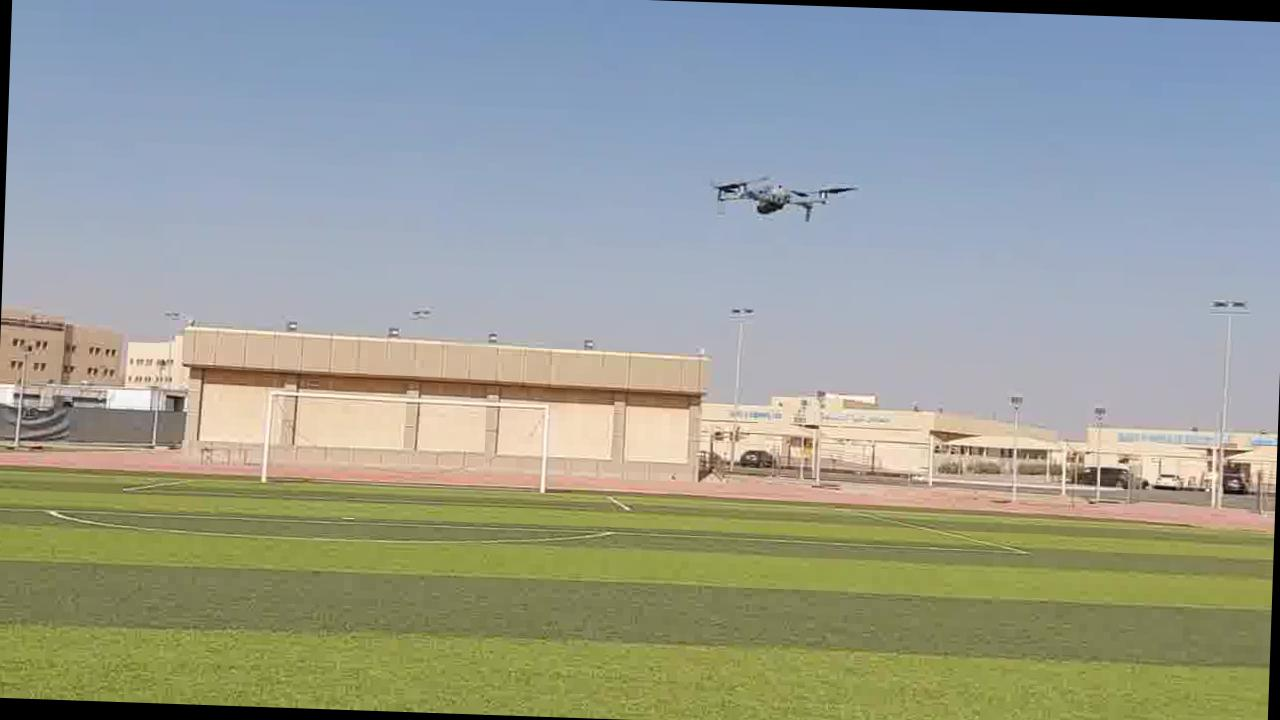drone: (700, 166, 856, 232)
